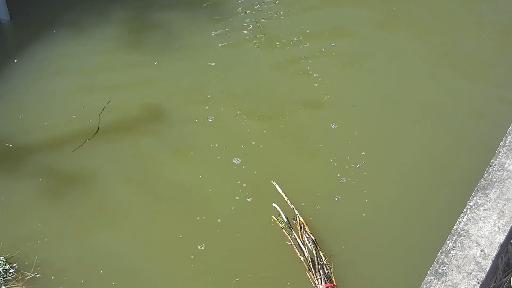twig: (259, 178, 347, 288), (64, 95, 120, 154), (0, 243, 48, 285)
